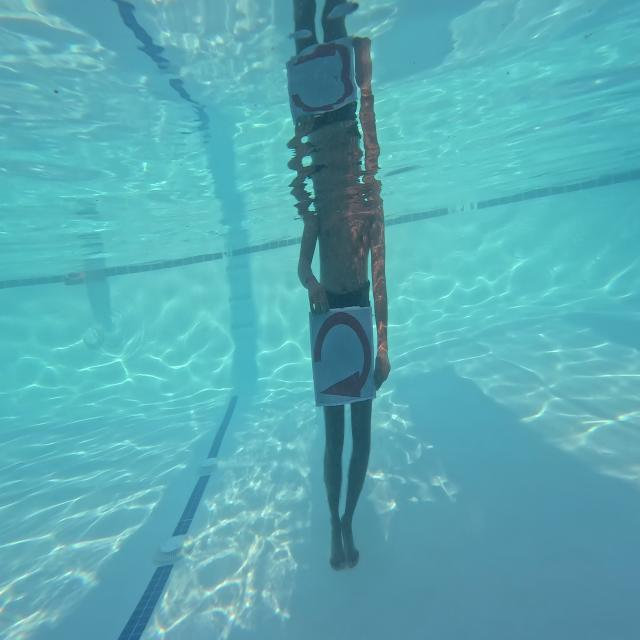red_side: (313, 303, 374, 407)
